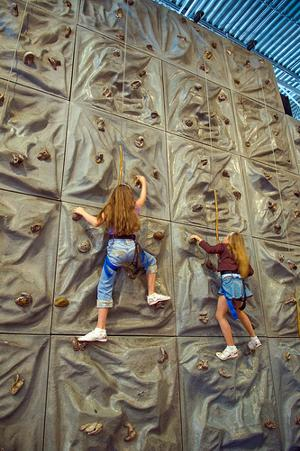person: (73, 175, 171, 341)
